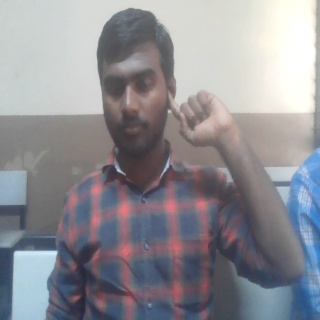Deaf: (167, 91, 243, 150)
Face: (96, 6, 177, 160)
